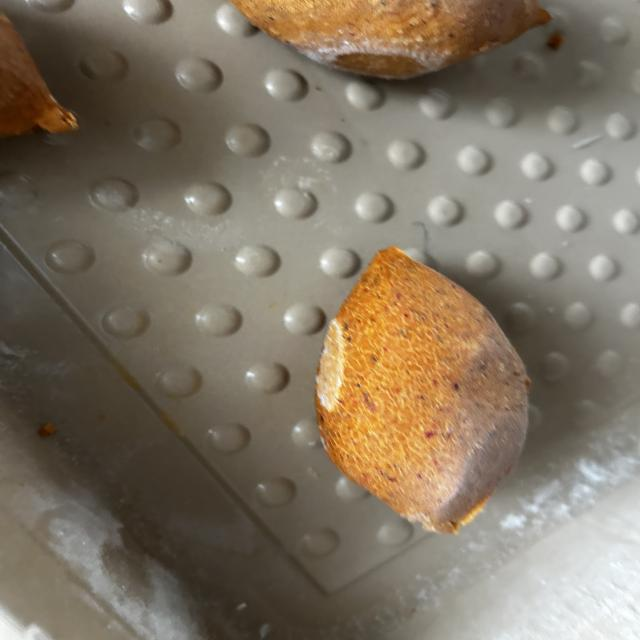kobi: (314, 245, 531, 535), (230, 0, 552, 80)
